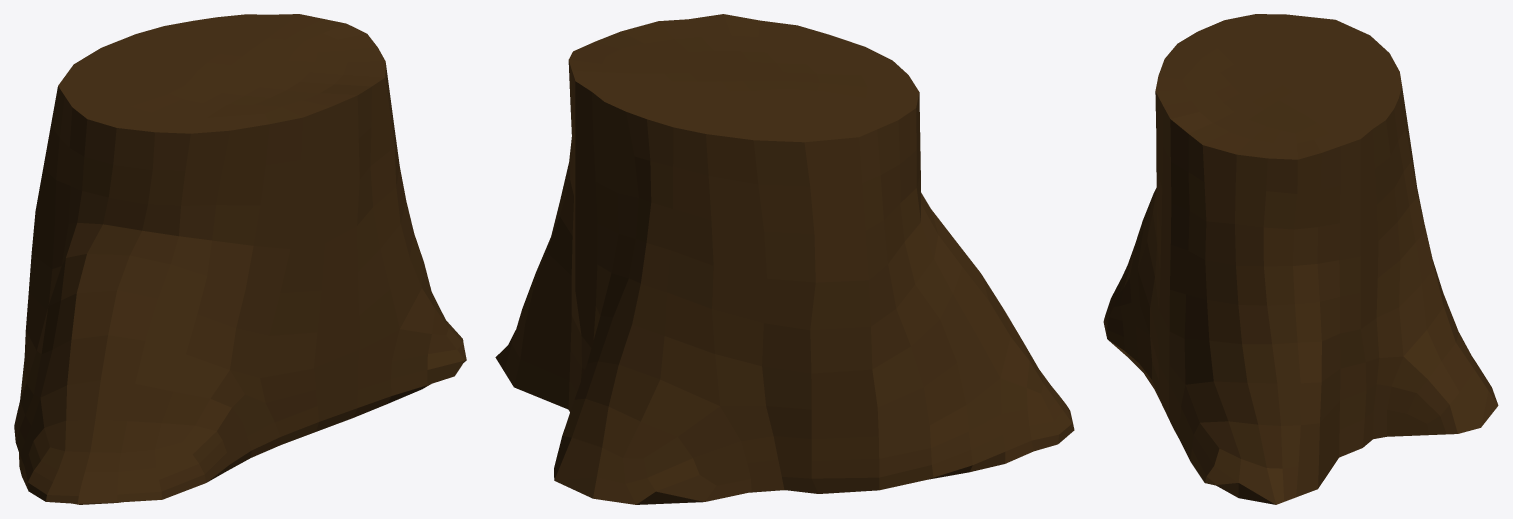
The model's file is TreeStump.gltf.
The picture shows the model from 3 angles, left to right: view 1: azimuth 30°, elevation 25°; view 2: azimuth 150°, elevation 25°; view 3: azimuth 270°, elevation 25°; orthographic projection. The views are drawn at different scales.
Parts seen in each view (by area): view 1: Trunk; view 2: Trunk; view 3: Trunk.
Part boxes in pixels (x1,y1,x2,y2): Trunk: (14,14,466,504); Trunk: (495,14,1074,504); Trunk: (1103,14,1498,504).
Bounding box in the file's own units: 4.28 × 2.76 × 3.15.
